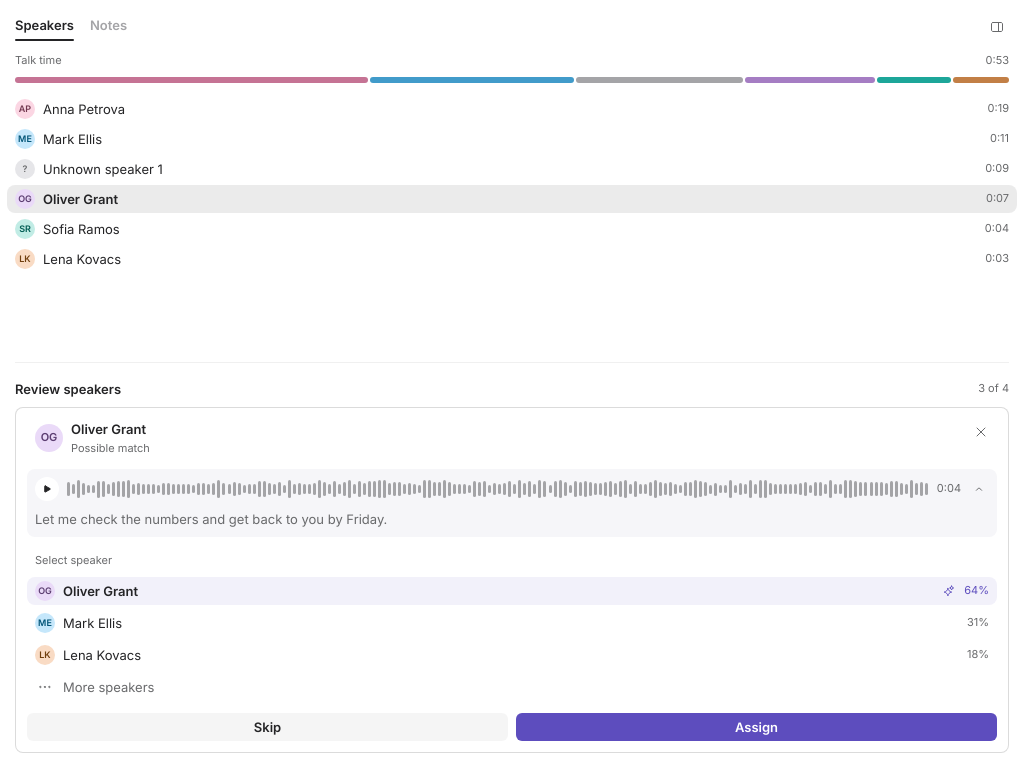
Test: review › confirming a possible match keeps the segments, tells, and moves on for good
Step 1. Click the button "Assign" → (756, 727), box [516,713,997,741]
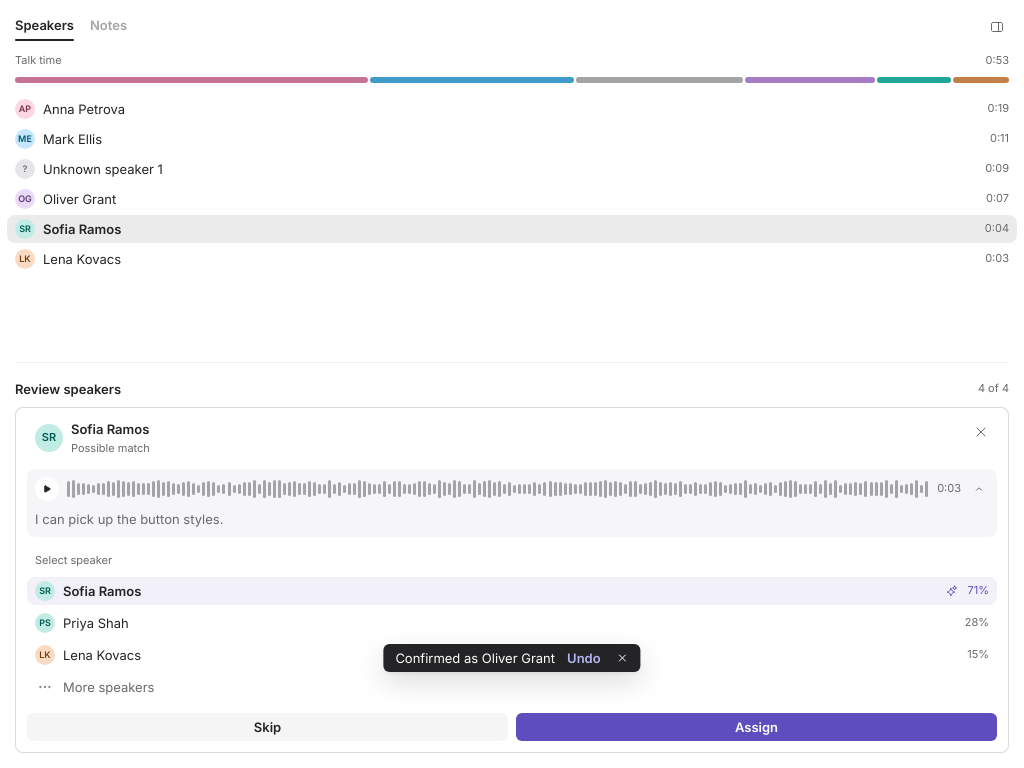
Expected: the text "Confirmed as Oliver Grant" is shown, [395,648,555,668]
Expected: the text "4 of 4" is shown, [978,381,1009,397]
